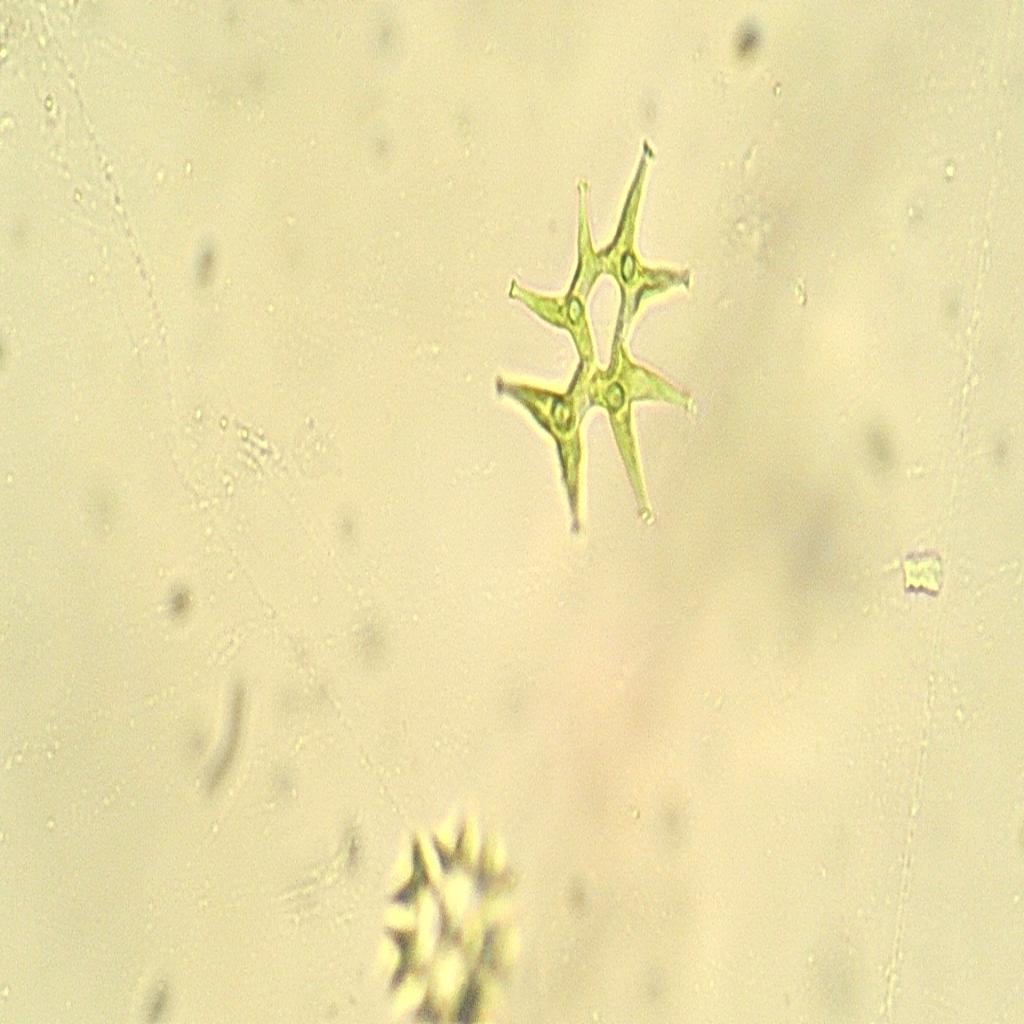Pediastrum_75FI: (481, 122, 707, 554)
